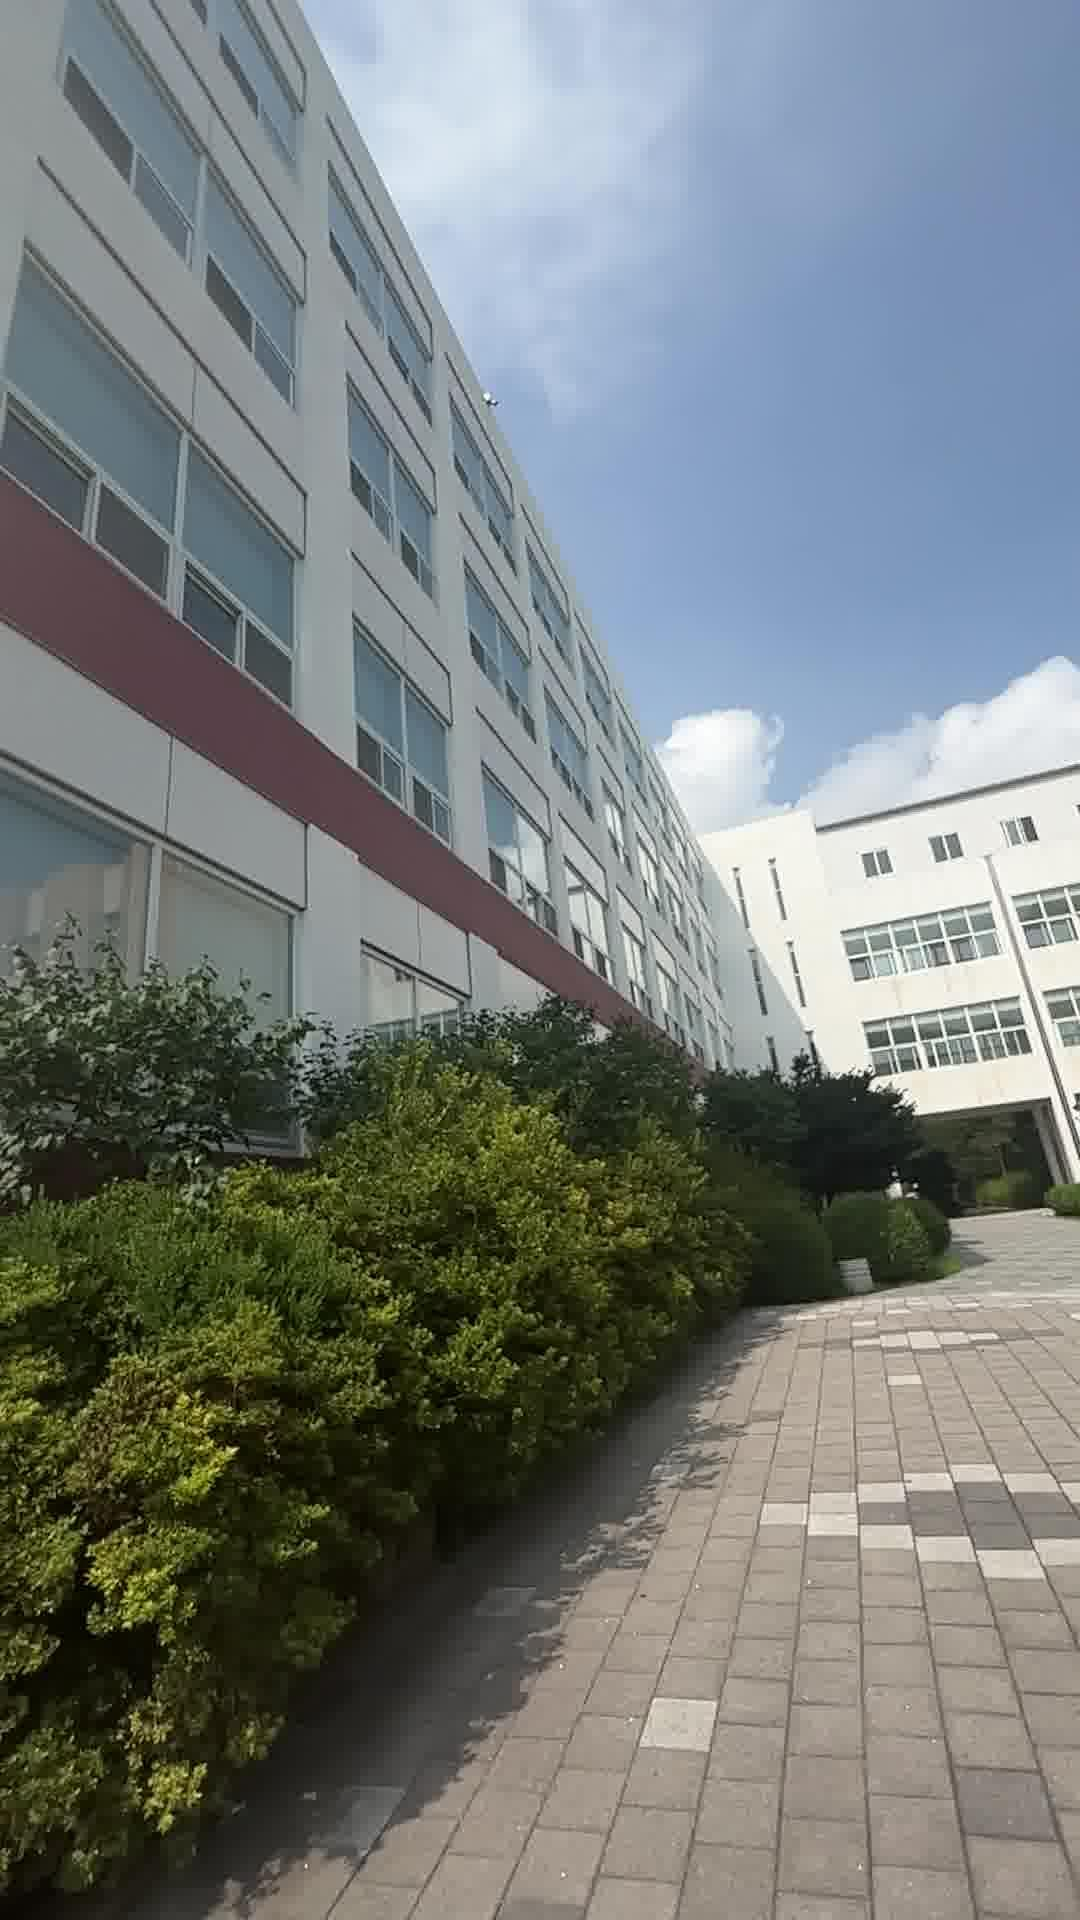building: (0, 0, 1080, 1068)
